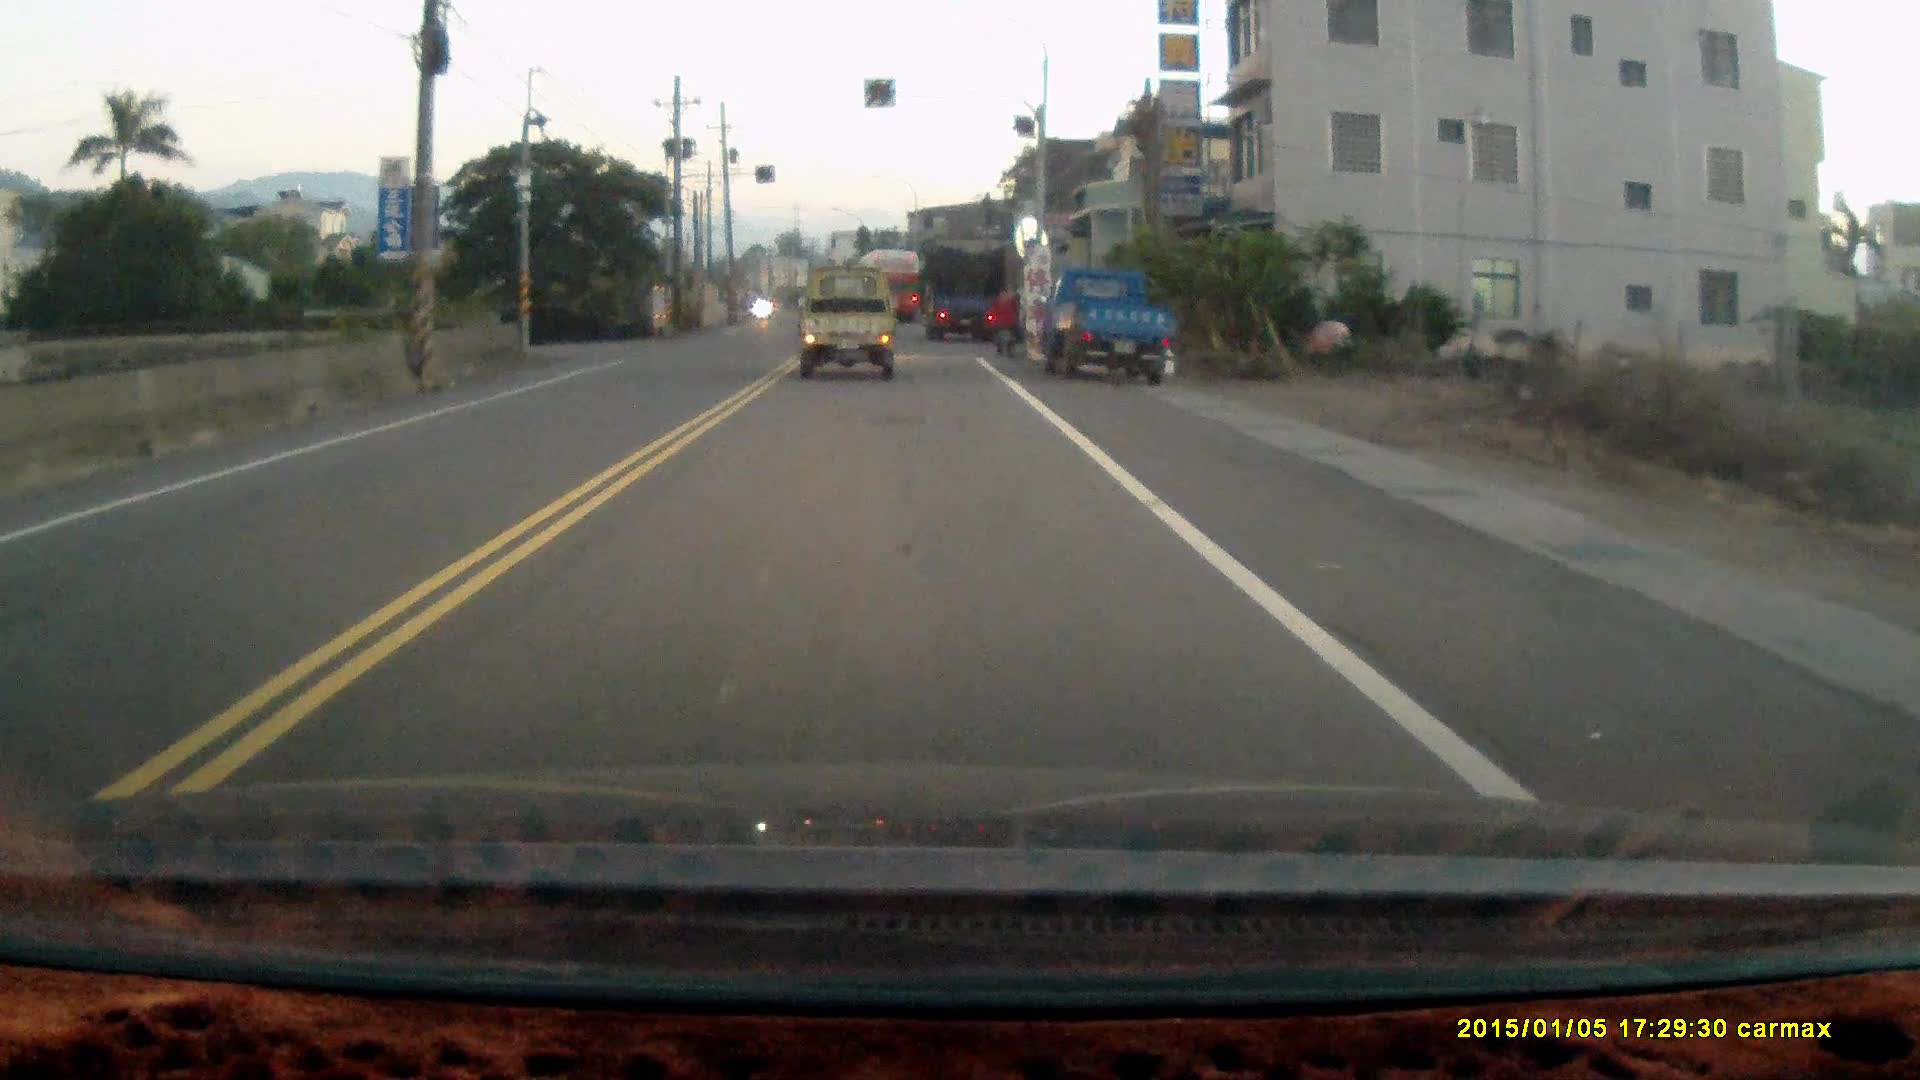pedestrian: (987, 279, 1019, 356)
vehicle: (1036, 264, 1180, 388), (800, 273, 905, 383), (924, 241, 1008, 334)
